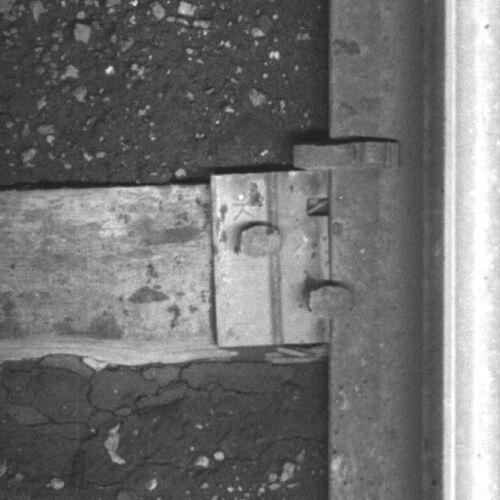crutch: (292, 141, 401, 172)
do: (209, 170, 355, 348)
hole_do: (297, 188, 340, 223)
rail: (441, 1, 500, 500)
tie_wood: (1, 189, 330, 360)
